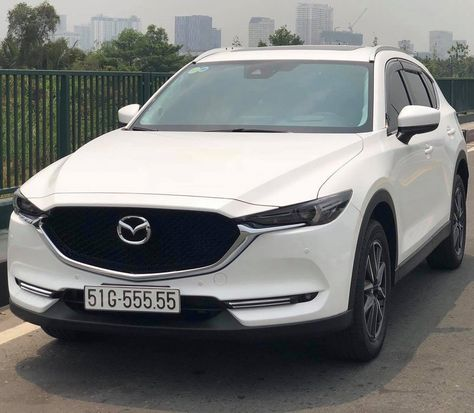number-plate: (84, 284, 180, 312)
